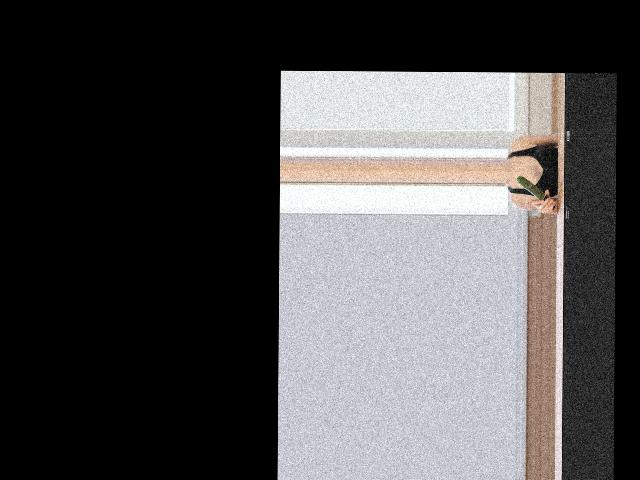cucumber: (515, 176, 555, 210)
